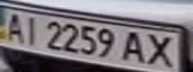2: (39, 18, 66, 53), (57, 20, 81, 55)
5: (78, 24, 100, 57)
9: (93, 26, 121, 61)
A: (118, 29, 151, 65), (0, 10, 30, 43)
I: (18, 15, 45, 47)
X: (142, 32, 181, 70)
